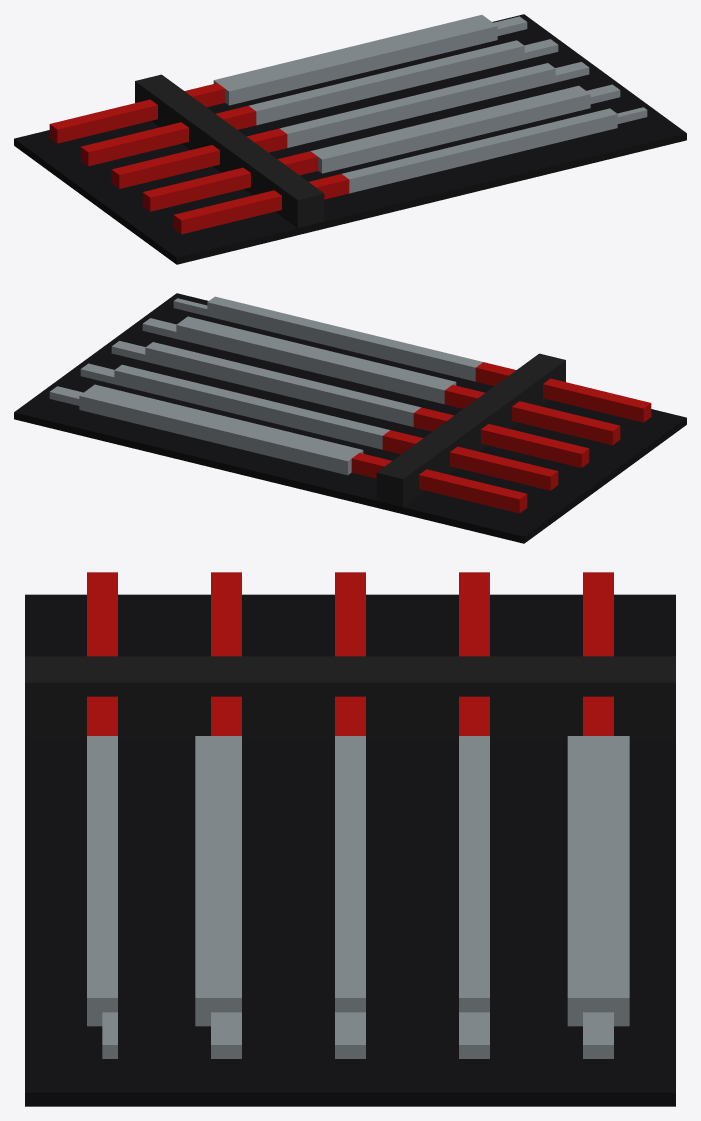
File: metal_file.glb
3 views of the same model, one above another, from view 1: azimuth 30°, elevation 25°; view 2: azimuth 150°, elevation 25°; view 3: azimuth 270°, elevation 25° (orthographic). The views are drawn at different scales.
Visible parts, largest first — view 1: metal_file:compound; view 2: metal_file:compound; view 3: metal_file:compound.
Part boxes in pixels (left/top/right/bottom): metal_file:compound: left=14, top=14, right=686, bottom=264; metal_file:compound: left=14, top=293, right=686, bottom=543; metal_file:compound: left=25, top=572, right=675, bottom=1106.
Bounding box in the file's own units: 0.152 × 0.01 × 0.084.
